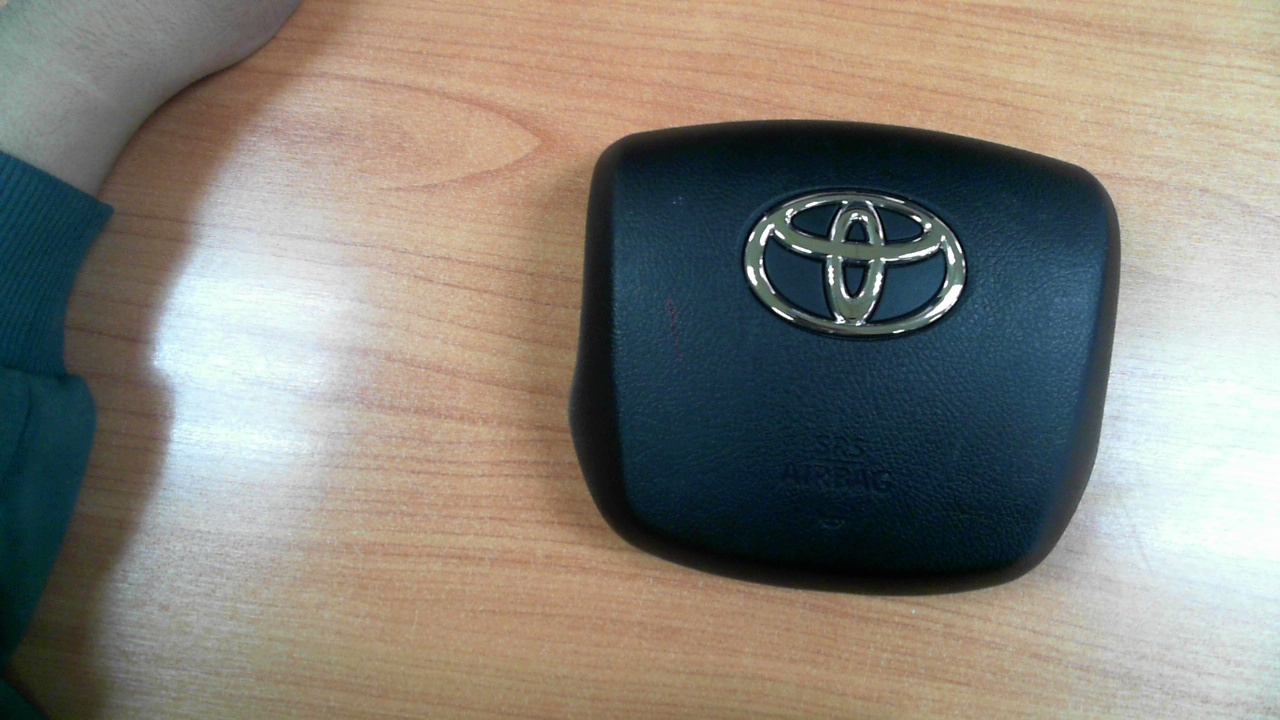Airbag: (567, 119, 1124, 594)
Toyota: (744, 190, 967, 335)
